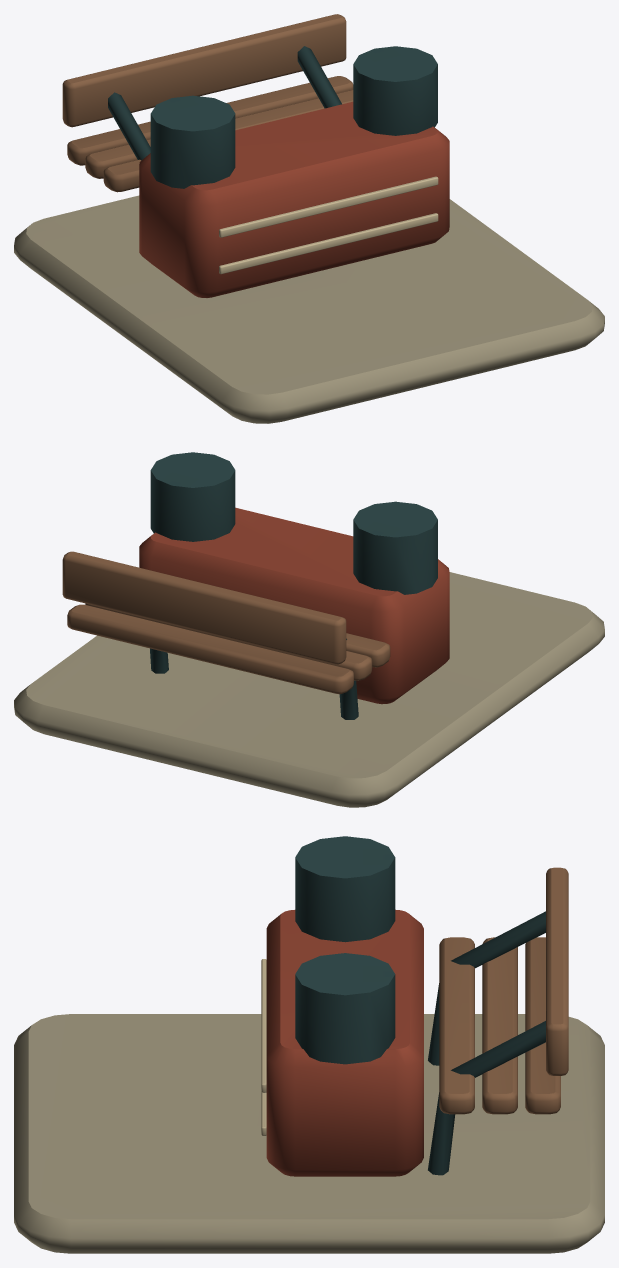
The model's file is valley_workshop_1.glb.
3 renders of one model, top to bottom at view 1: azimuth 30°, elevation 25°; view 2: azimuth 150°, elevation 25°; view 3: azimuth 270°, elevation 25°, orthographic. The views are drawn at different scales.
Parts seen in each view (by area): view 1: Workshop1; view 2: Workshop1; view 3: Workshop1.
Boxes of the visible parts, x1=… form: Workshop1: x1=14, y1=14, x2=604, y2=423; Workshop1: x1=14, y1=452, x2=604, y2=807; Workshop1: x1=14, y1=836, x2=604, y2=1253.
Size of the model in its own units: 2.16 by 1.09 by 2.48.
